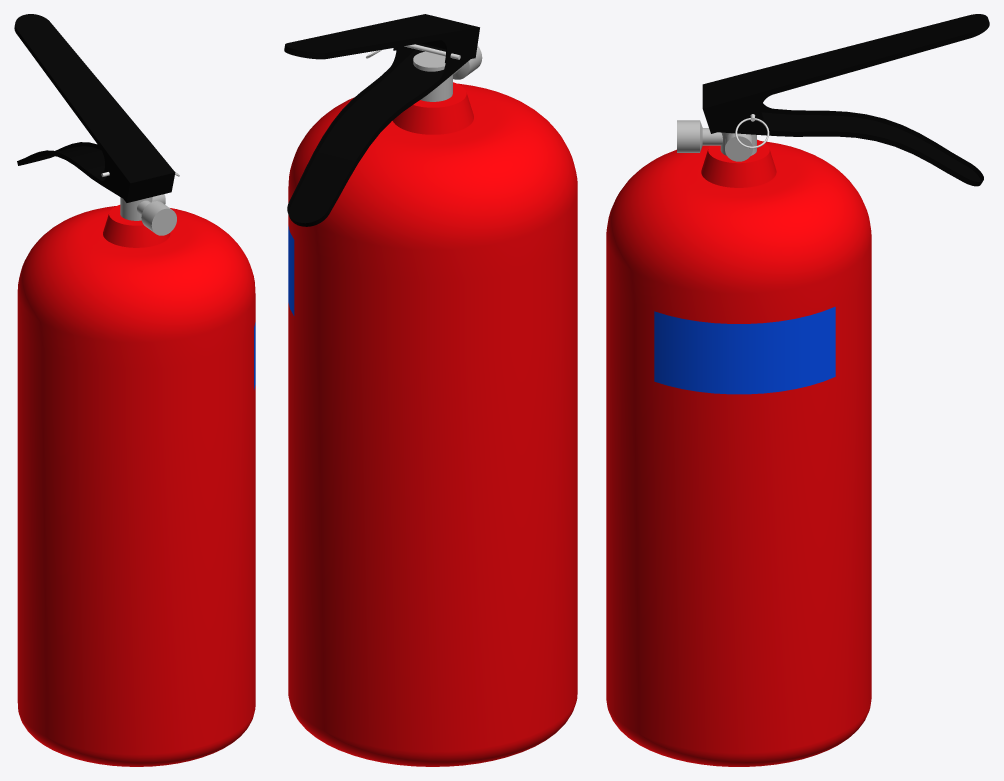
File: FireExtinguisher.fbx
The picture shows the model from 3 angles, left to right: view 1: azimuth 30°, elevation 25°; view 2: azimuth 150°, elevation 25°; view 3: azimuth 270°, elevation 25°; orthographic projection. The views are drawn at different scales.
Visible parts, largest first — view 1: FireExtiguisher, TopHandle, BottomHandle; view 2: FireExtiguisher, BottomHandle, TopHandle; view 3: FireExtiguisher, TopHandle, BottomHandle.
Part boxes in pixels (x1,y1,x2,y2): FireExtiguisher: (17, 194, 255, 766); TopHandle: (14, 14, 175, 202); BottomHandle: (17, 142, 122, 198); FireExtiguisher: (288, 45, 577, 766); BottomHandle: (287, 40, 470, 226); TopHandle: (284, 14, 479, 63); FireExtiguisher: (606, 115, 871, 766); TopHandle: (702, 14, 989, 133); BottomHandle: (718, 103, 983, 186).
Size of the model in its own units: 10.98 by 15.89 by 32.
